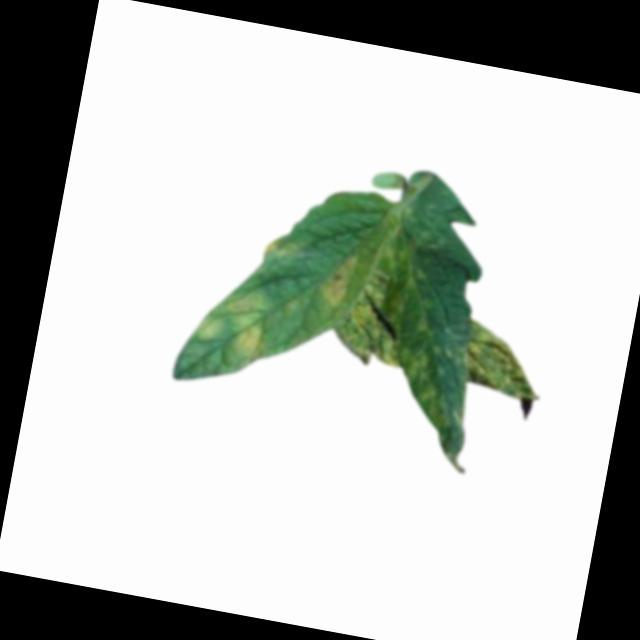Leaf_Mold: (187, 279, 280, 370), (333, 270, 413, 367), (461, 321, 547, 402), (394, 346, 447, 408), (326, 252, 357, 314), (263, 235, 306, 267)
